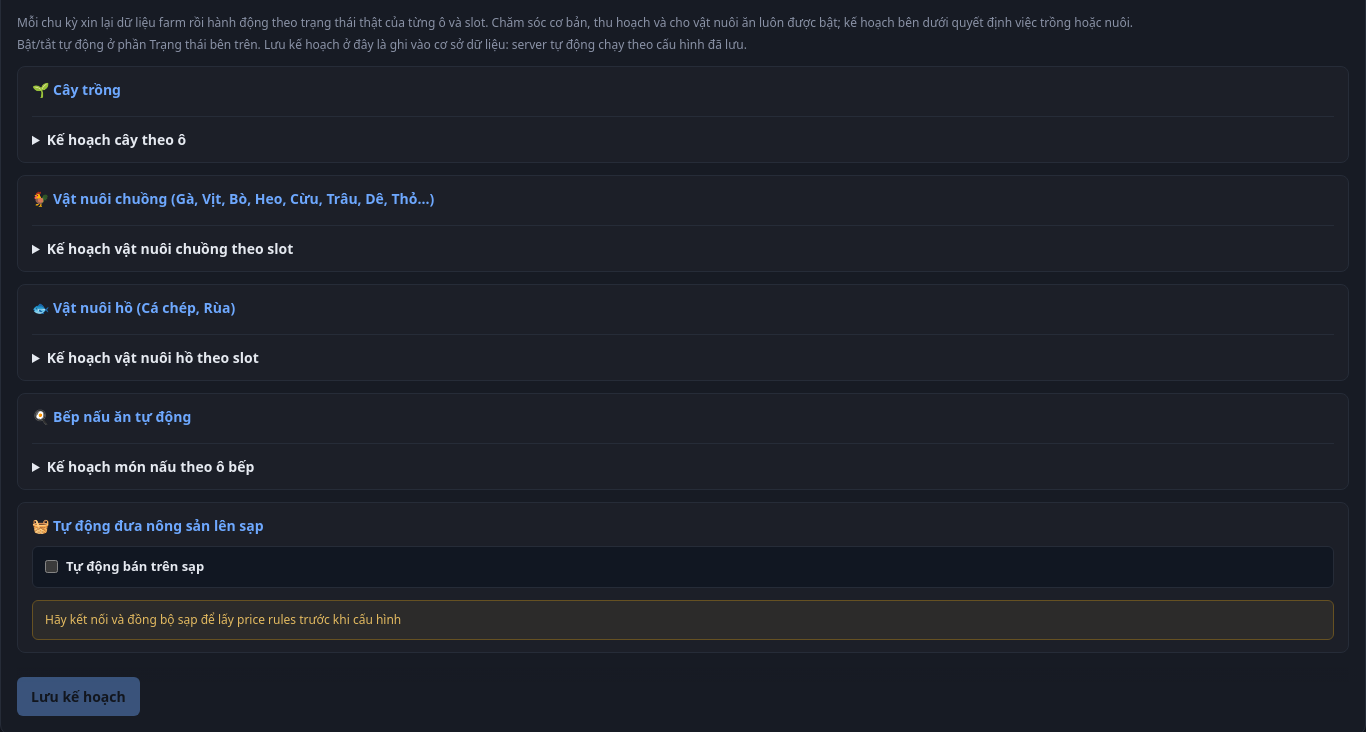
Scenario: lưu gửi đúng full stored config cùng plan mới và báo áp dụng vòng kế tiếp
Click the heading "Kế hoạch cây theo ô".
click(116, 140)  # box [47,130,186,149]
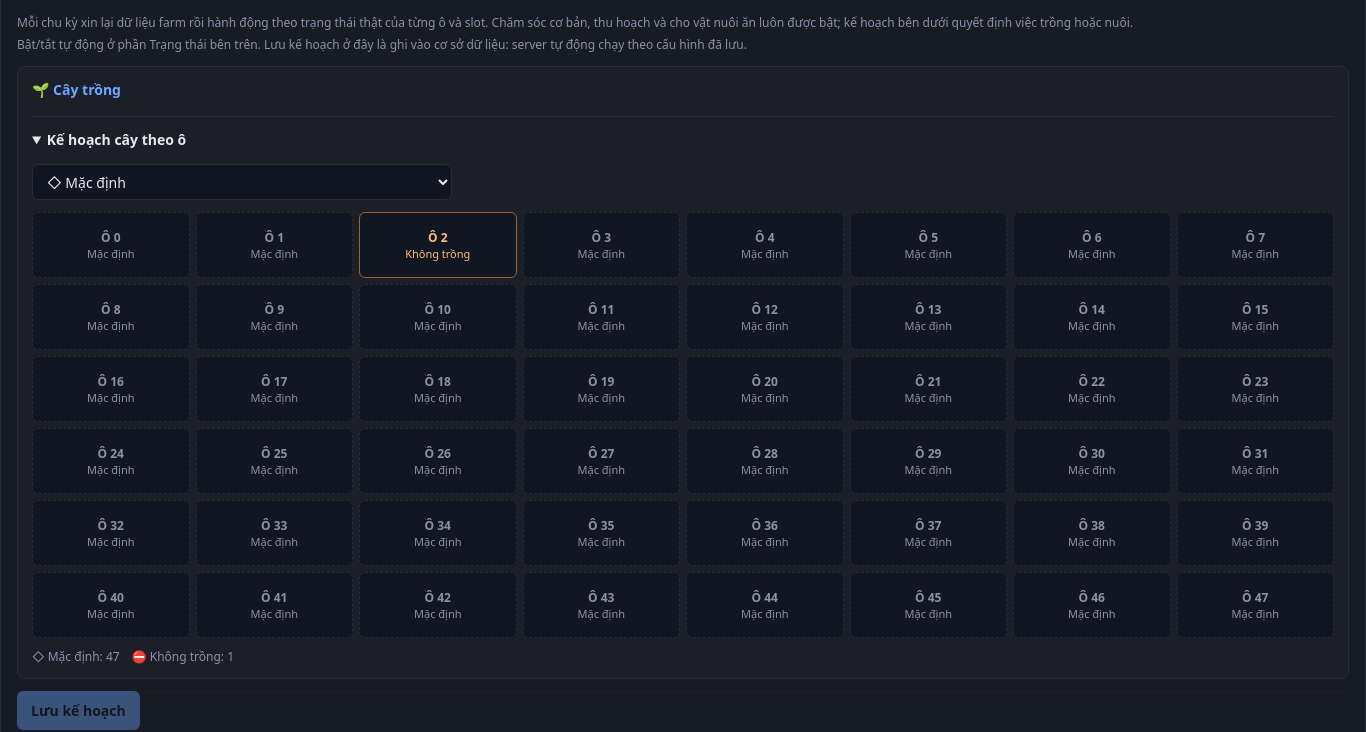
Select "⛔ Không trồng" in the dropdown named "Chọn trạng thái để tô" at (242, 182), box [32,164,452,200]
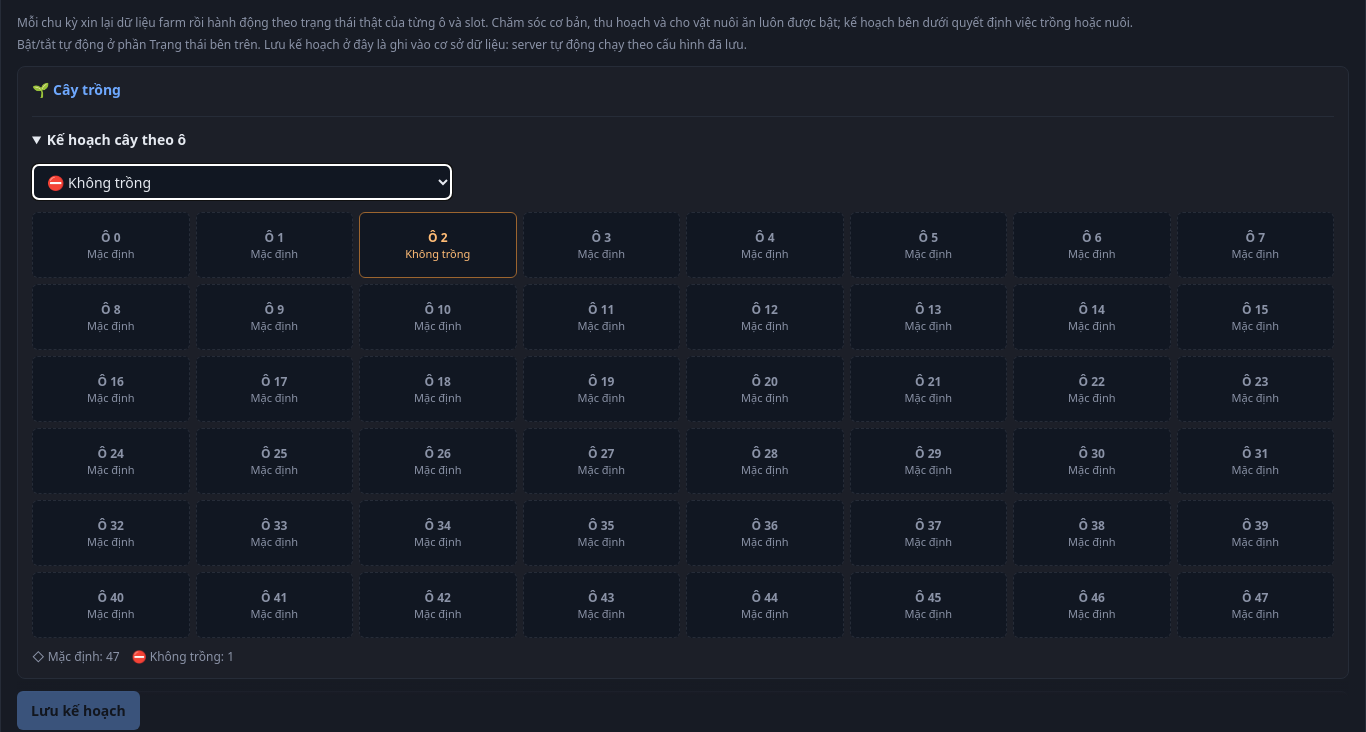
Click the button "Ô 7 Mặc định".
click(1255, 245)  # box [1176,212,1334,278]
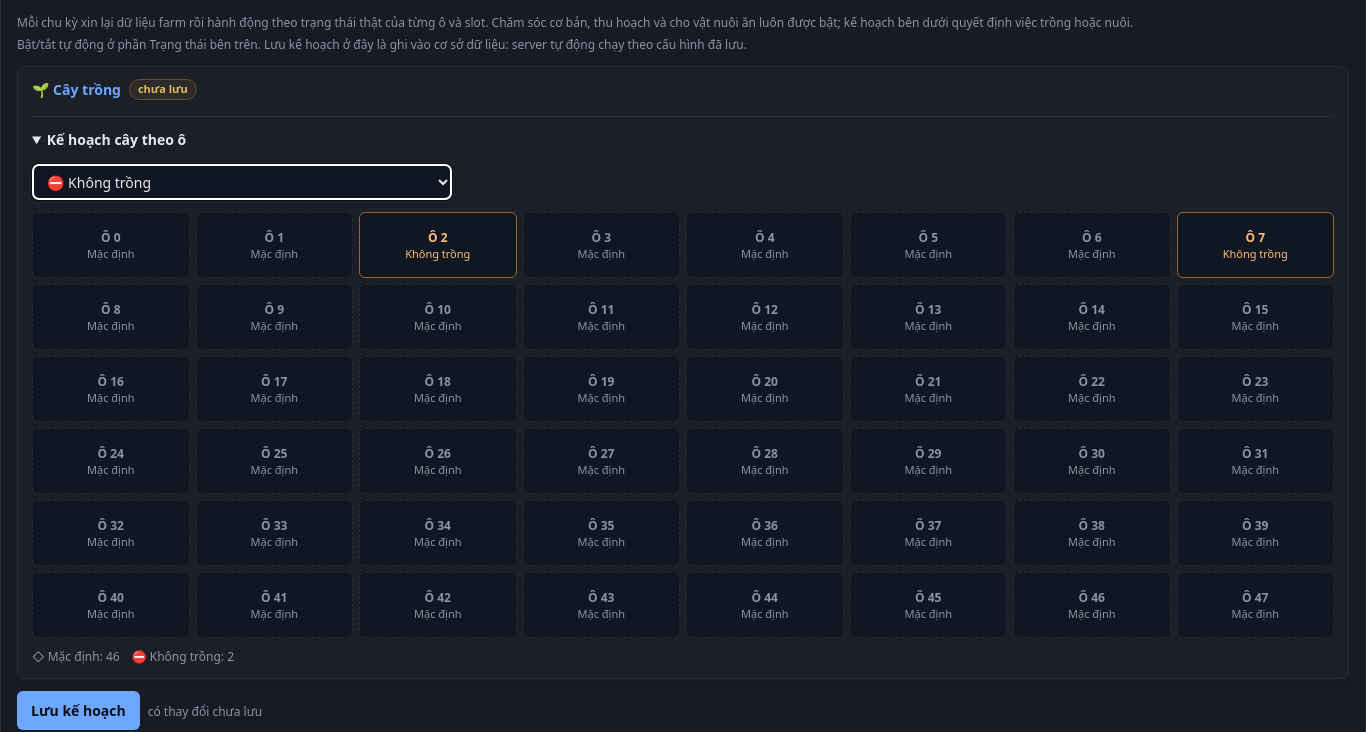
Click the button "Lưu kế hoạch".
click(78, 710)  # box [17,691,140,730]
(page scrolled)
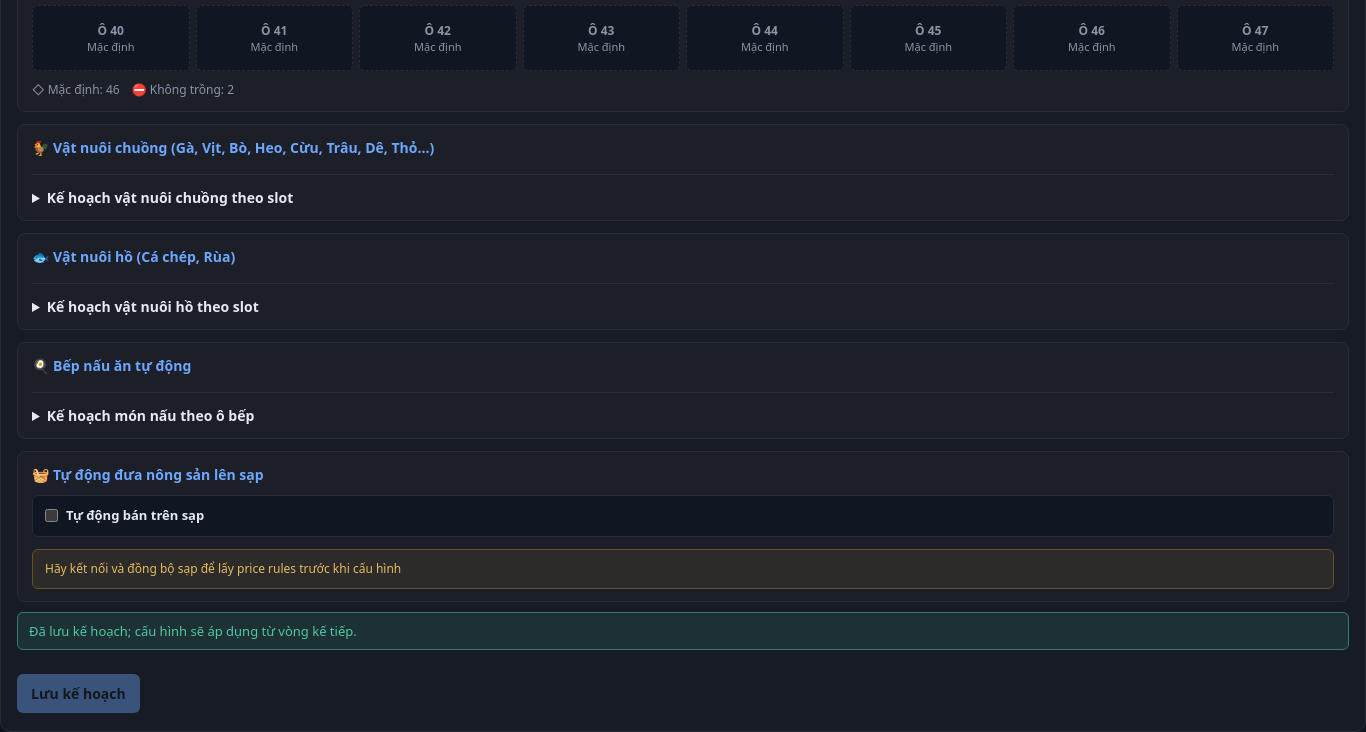
Expected: the text "Đã lưu kế hoạch; cấu hình sẽ áp dụng từ vòng kế tiếp." is shown, [29,622,357,640]
